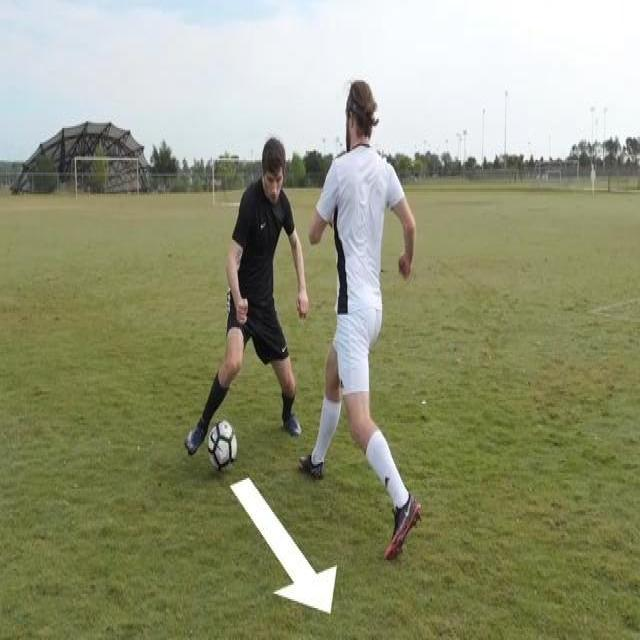Soccer Ball: (209, 420, 239, 474)
